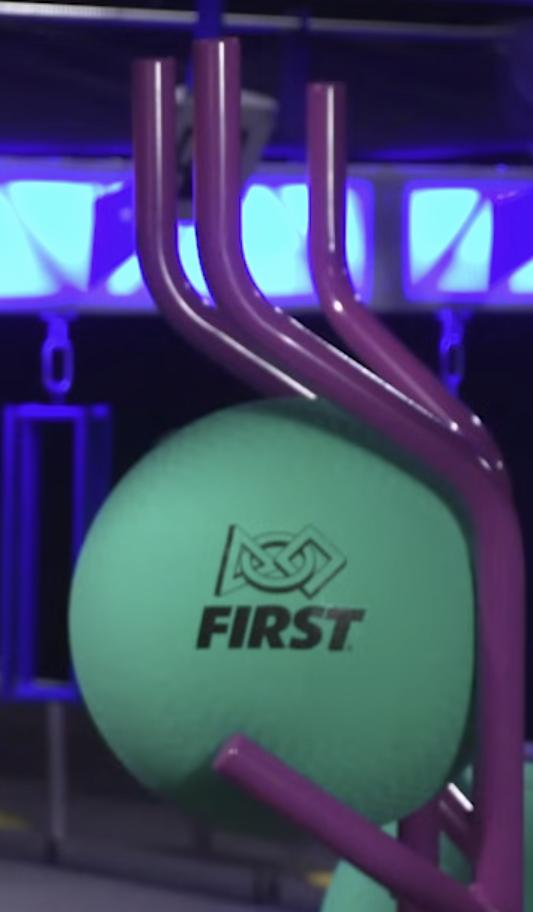algae: (72, 397, 477, 827), (323, 758, 533, 912)
